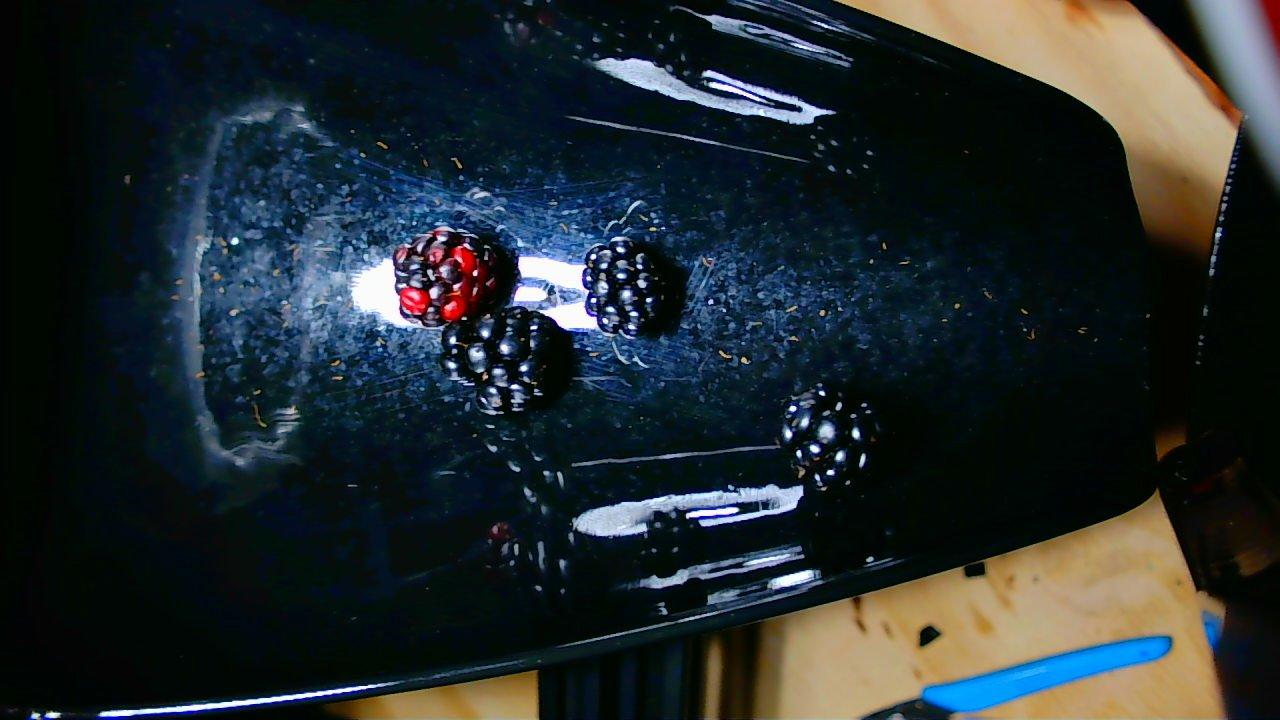berry: (441, 307, 568, 414), (393, 227, 504, 327), (781, 383, 882, 491), (581, 236, 665, 337)
